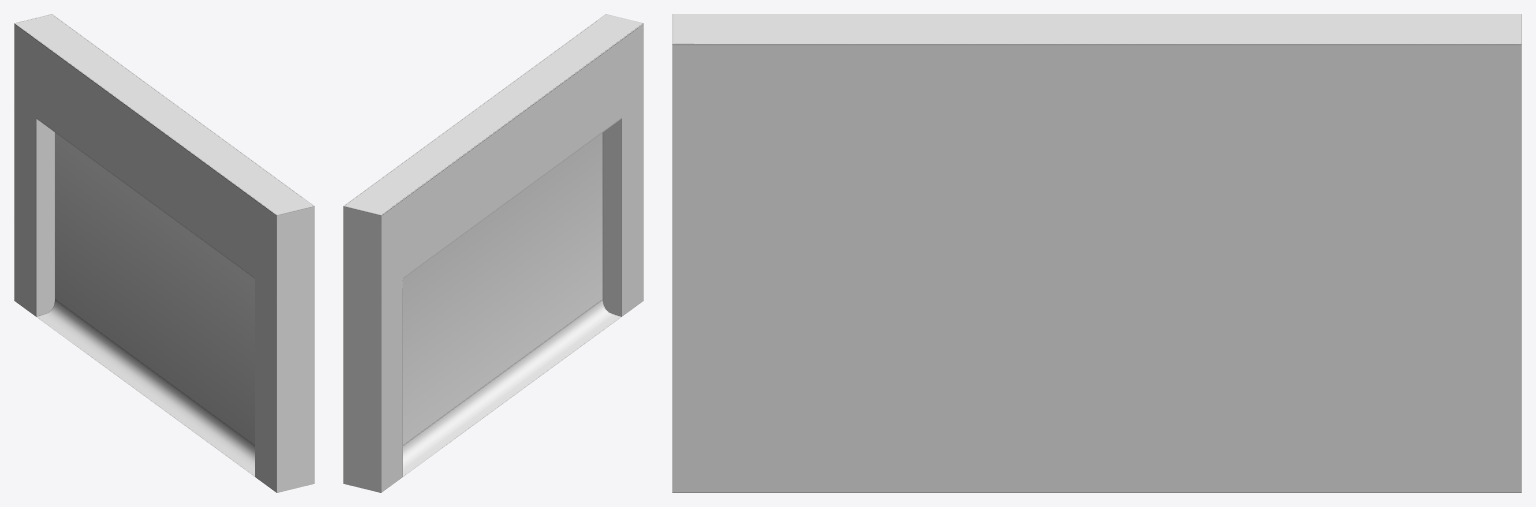
The model's file is Wall_Normal_01.FBX.
3 renders of one model, left to right at view 1: azimuth 30°, elevation 25°; view 2: azimuth 150°, elevation 25°; view 3: azimuth 270°, elevation 25°, orthographic. The views are drawn at different scales.
Parts seen in each view (by area): view 1: Wall_Normal_01; view 2: Wall_Normal_01; view 3: Wall_Normal_01.
Part boxes in pixels (box(x1,y1,x2,y2)): Wall_Normal_01: box(14, 14, 314, 492); Wall_Normal_01: box(343, 14, 643, 492); Wall_Normal_01: box(672, 14, 1521, 492).
Size of the model in its own units: 1 by 7 by 12.
